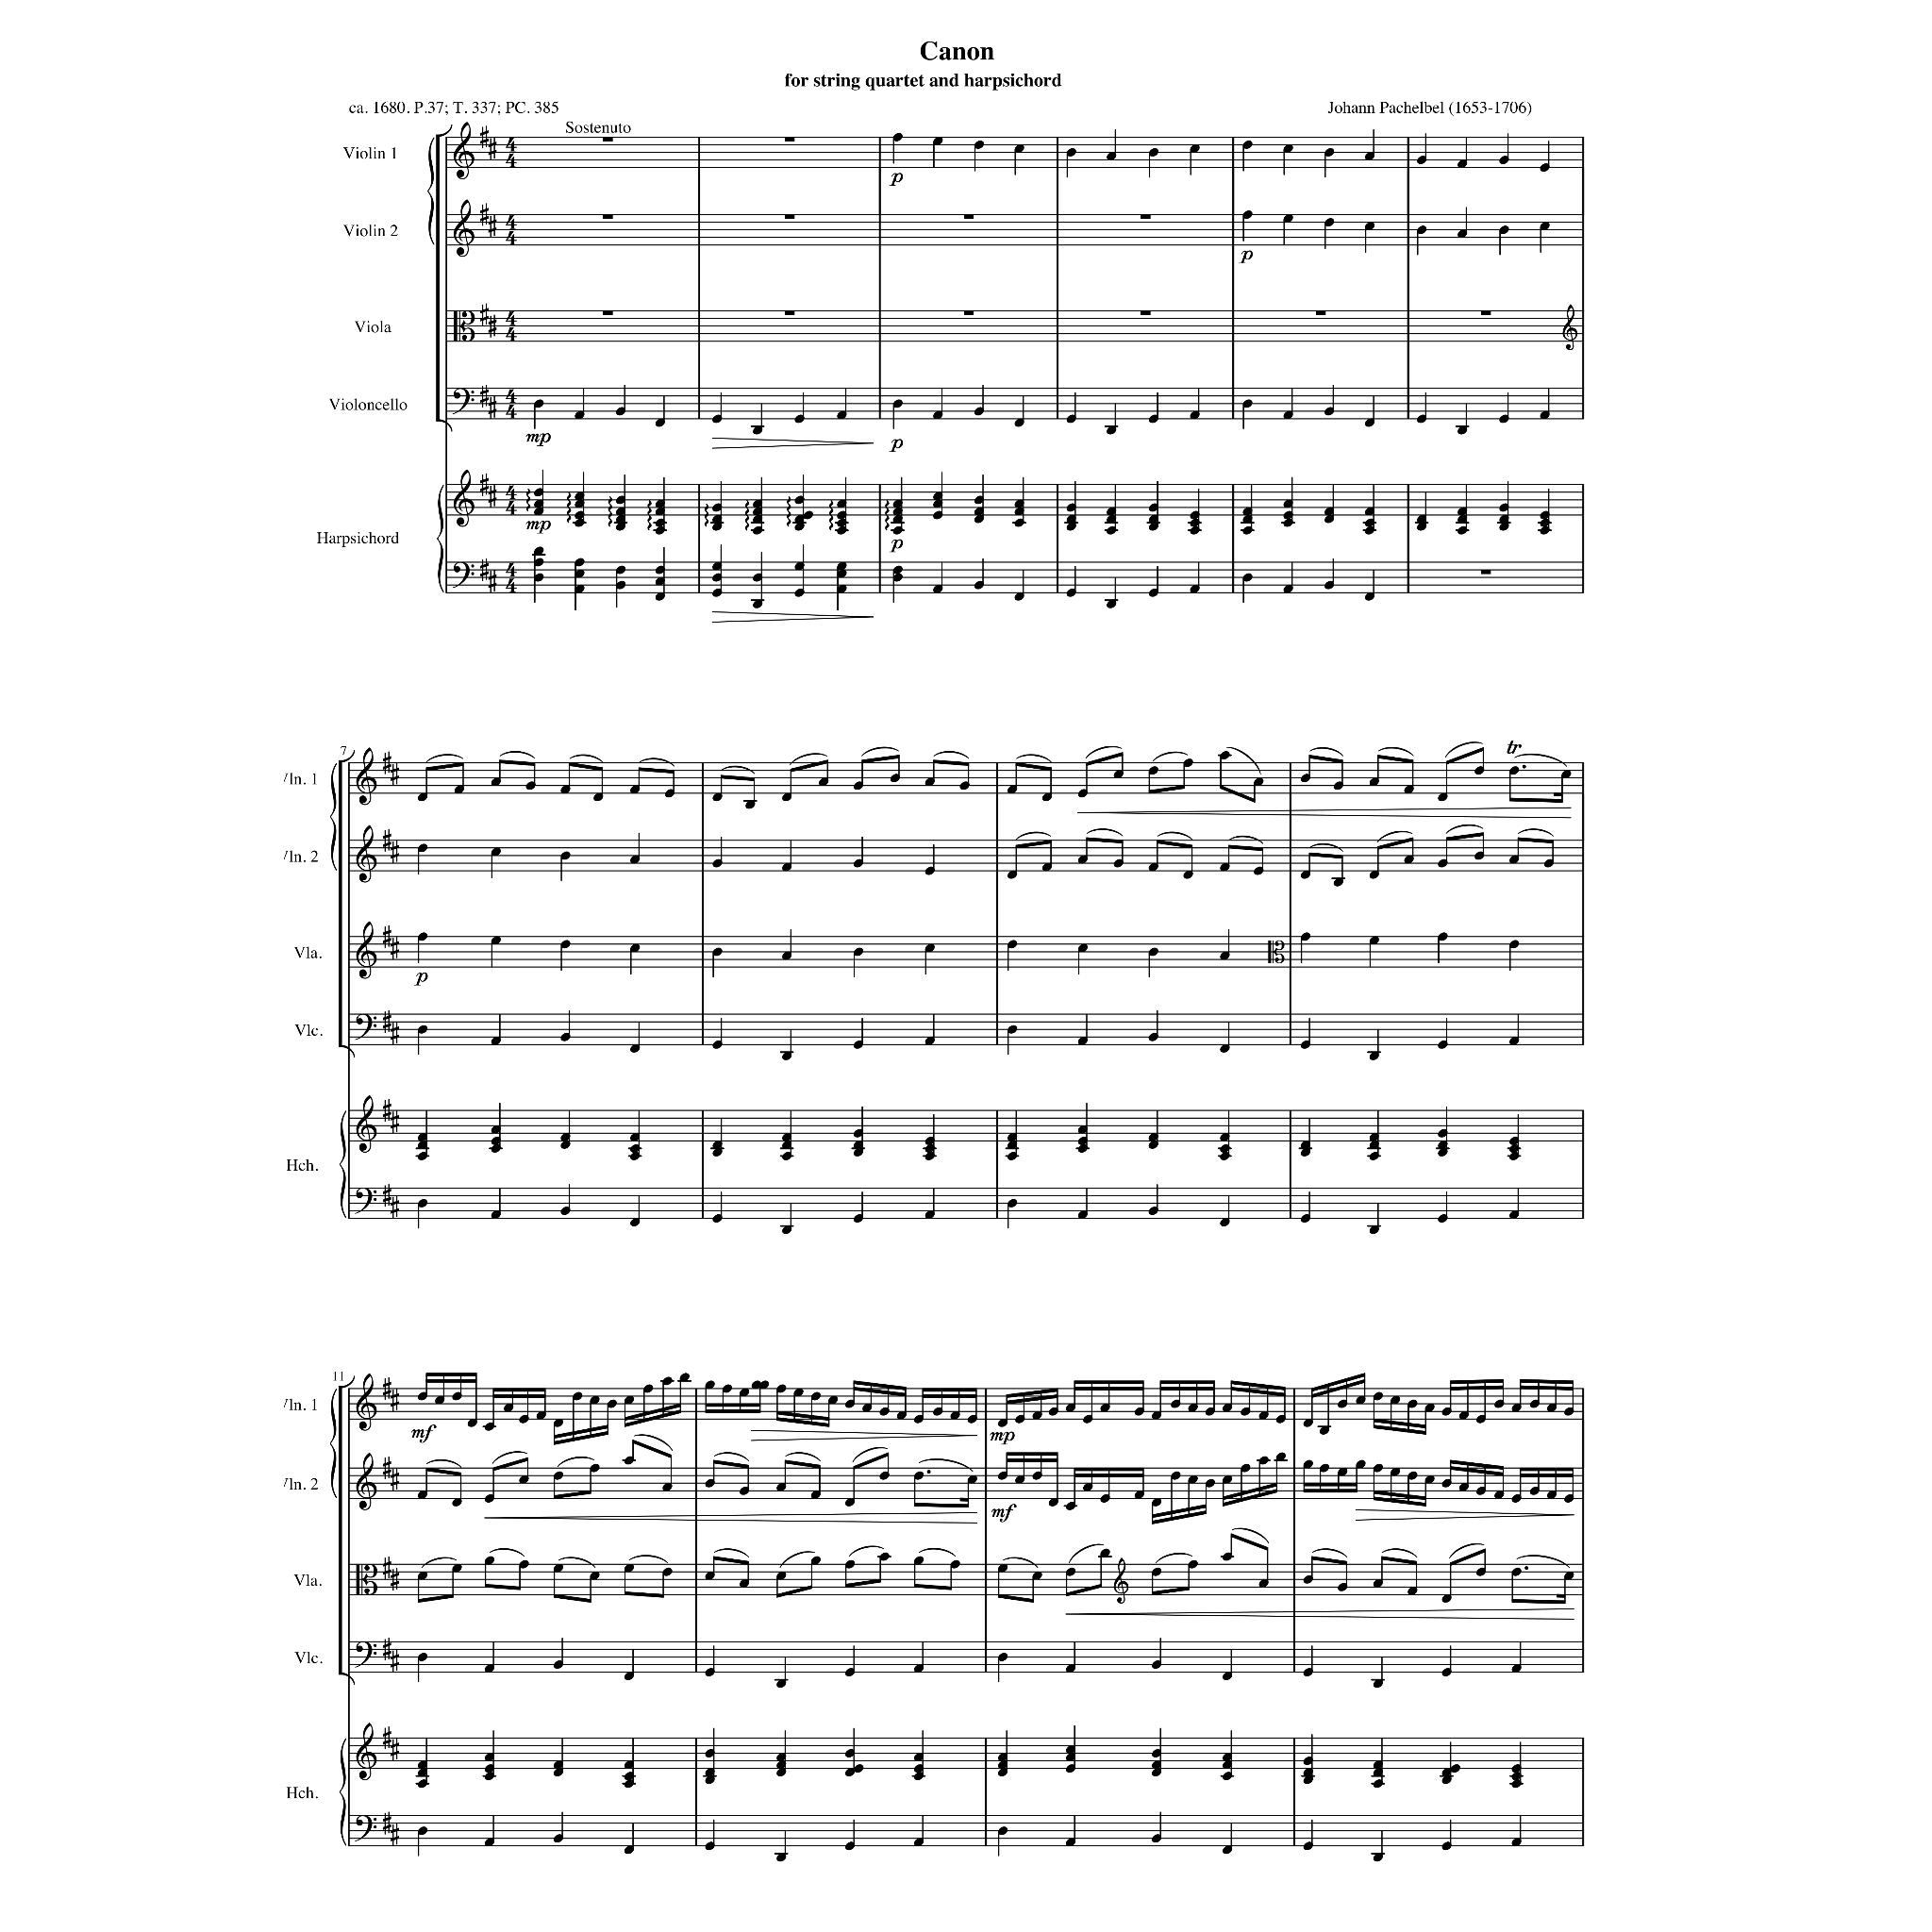brace: (338, 1737, 347, 1847), (435, 485, 444, 593), (338, 1111, 347, 1219), (329, 1389, 336, 1499), (426, 138, 433, 246), (329, 763, 336, 870)
fClef: (451, 389, 474, 416), (451, 563, 474, 589), (354, 1014, 377, 1040), (354, 1187, 377, 1214), (354, 1815, 377, 1842), (354, 1642, 377, 1668)
gClef: (453, 122, 474, 180), (453, 200, 474, 258), (453, 469, 474, 527), (356, 824, 377, 883), (356, 1095, 377, 1154), (356, 920, 377, 978), (356, 747, 377, 805), (356, 1723, 377, 1782), (356, 1453, 377, 1511), (356, 1373, 377, 1431)
noteheadBlack: (1242, 140, 1253, 150), (1300, 773, 1311, 784), (1042, 862, 1053, 872), (1077, 1035, 1088, 1046), (1219, 862, 1230, 872), (1148, 862, 1159, 872), (1509, 1035, 1520, 1046), (490, 1035, 501, 1046), (924, 1035, 934, 1046), (1223, 1474, 1233, 1484), (1065, 1744, 1076, 1755), (1187, 1474, 1198, 1484), (1424, 1474, 1435, 1484), (518, 1474, 529, 1484), (968, 1474, 978, 1484), (1014, 1474, 1024, 1484), (1323, 218, 1334, 226), (1323, 407, 1334, 416), (1323, 515, 1334, 524), (1323, 580, 1334, 589), (1283, 518, 1293, 527), (1283, 511, 1293, 520), (1283, 499, 1293, 508), (1283, 584, 1293, 593), (1283, 410, 1293, 419), (1323, 149, 1334, 157), (1242, 515, 1253, 524), (1283, 145, 1293, 154), (1283, 214, 1293, 223), (1148, 149, 1159, 157), (1148, 414, 1159, 423), (1148, 522, 1159, 531), (1148, 515, 1159, 524), (1148, 502, 1159, 511), (1148, 589, 1159, 598), (1106, 152, 1116, 161), (1106, 426, 1116, 435), (1106, 525, 1116, 534), (1106, 515, 1116, 524), (1106, 600, 1116, 609), (1242, 211, 1253, 219), (1242, 400, 1253, 409), (1242, 525, 1253, 534), (1242, 573, 1253, 582), (1189, 525, 1200, 534), (1189, 145, 1200, 154), (1189, 410, 1200, 419), (1189, 518, 1200, 527), (1189, 511, 1200, 520), (1189, 584, 1200, 593), (1539, 410, 1550, 419), (1539, 525, 1550, 534), (1539, 518, 1550, 527), (1539, 511, 1550, 520), (1499, 502, 1509, 511), (1499, 156, 1509, 165), (1499, 226, 1509, 235), (1499, 414, 1509, 423), (1499, 522, 1509, 531), (1499, 515, 1509, 524), (711, 414, 722, 423), (711, 522, 722, 531), (711, 515, 722, 524), (711, 502, 722, 511), (711, 589, 722, 598), (711, 573, 722, 582), (614, 515, 625, 524), (614, 495, 625, 504), (614, 580, 625, 589), (655, 418, 665, 426), (655, 525, 665, 534), (655, 518, 665, 527), (655, 499, 665, 508), (655, 577, 665, 586), (752, 600, 763, 609), (752, 426, 763, 435), (752, 525, 763, 534), (752, 515, 763, 524), (752, 499, 763, 508), (752, 573, 763, 582), (614, 522, 625, 531), (614, 407, 625, 416), (975, 140, 984, 150), (932, 410, 943, 419), (932, 511, 943, 520), (932, 499, 943, 508), (932, 492, 943, 501), (932, 584, 943, 593), (1014, 499, 1024, 508), (1065, 515, 1076, 524), (1014, 518, 1024, 527), (1065, 522, 1076, 531), (1065, 149, 1076, 157), (1065, 414, 1076, 423), (1065, 589, 1076, 598), (1065, 502, 1076, 511), (1014, 145, 1024, 154), (1014, 418, 1024, 426), (837, 410, 847, 419), (837, 525, 847, 534), (837, 518, 847, 527), (837, 511, 847, 520), (837, 499, 847, 508), (837, 584, 847, 593), (837, 570, 847, 579), (794, 414, 805, 423), (794, 522, 805, 531), (794, 515, 805, 524), (801, 511, 812, 520), (794, 495, 805, 504), (794, 589, 805, 598), (892, 133, 902, 142), (892, 400, 902, 409), (892, 525, 902, 534), (892, 515, 902, 524), (892, 499, 902, 508), (892, 573, 902, 582), (1253, 867, 1263, 876), (1300, 870, 1311, 879), (1300, 932, 1311, 941), (1300, 1040, 1311, 1049), (1300, 1148, 1311, 1157), (1300, 1139, 1311, 1148), (1300, 1214, 1311, 1223), (1219, 1044, 1230, 1053), (1113, 770, 1123, 778), (1113, 858, 1123, 867), (1077, 789, 1088, 798), (1077, 855, 1088, 863), (1077, 943, 1088, 952), (1077, 1145, 1088, 1154), (1077, 1138, 1088, 1146), (1077, 1125, 1088, 1134), (1077, 1210, 1088, 1219), (1182, 759, 1192, 768), (1182, 870, 1192, 879), (1219, 952, 1230, 961), (1219, 1152, 1230, 1161), (1219, 1145, 1230, 1154), (1042, 793, 1053, 801), (1148, 766, 1159, 775), (1148, 1139, 1159, 1148), (1148, 1132, 1159, 1141), (1148, 1207, 1159, 1215), (1219, 1132, 1230, 1141), (1560, 770, 1571, 778), (1509, 1210, 1520, 1219), (1509, 1138, 1520, 1146), (1403, 786, 1414, 794), (1403, 855, 1414, 863), (1334, 782, 1345, 791), (1334, 878, 1345, 886), (1369, 870, 1380, 879), (1369, 936, 1380, 945), (1369, 1053, 1380, 1062), (1369, 1152, 1380, 1161), (1369, 1139, 1380, 1148), (1369, 1132, 1380, 1141), (1369, 1226, 1380, 1235), (1474, 766, 1484, 775), (1474, 851, 1484, 860), (1509, 766, 1520, 775), (1509, 855, 1520, 863), (1509, 939, 1520, 948), (1509, 1152, 1520, 1161), (1509, 1145, 1520, 1154), (1437, 793, 1447, 801), (1437, 858, 1447, 867), (1437, 932, 1447, 941), (1437, 1040, 1447, 1049), (1437, 1148, 1447, 1157), (1437, 1139, 1447, 1148), (1437, 1129, 1447, 1138), (1437, 1214, 1447, 1223), (593, 793, 603, 801), (525, 782, 536, 791), (630, 786, 640, 794), (559, 786, 570, 794), (559, 851, 570, 860), (559, 939, 570, 948), (559, 1139, 570, 1148), (559, 1132, 570, 1141), (559, 1207, 570, 1215), (711, 1139, 722, 1148), (663, 789, 674, 798), (711, 793, 722, 801), (711, 858, 722, 867), (711, 1040, 722, 1049), (711, 1148, 722, 1157), (711, 1214, 722, 1223), (630, 855, 640, 863), (630, 943, 640, 952), (630, 1044, 640, 1053), (630, 1152, 640, 1161), (630, 1145, 640, 1154), (630, 1132, 640, 1141), (416, 793, 426, 801), (416, 844, 426, 853), (416, 932, 426, 941), (490, 1138, 501, 1146), (453, 786, 464, 794), (490, 847, 501, 856), (490, 936, 501, 945), (490, 1145, 501, 1154), (490, 1125, 501, 1134), (490, 1210, 501, 1219), (416, 1024, 426, 1033), (416, 1152, 426, 1161), (416, 1139, 426, 1148), (416, 1132, 426, 1141), (416, 1200, 426, 1208), (924, 1152, 934, 1161), (924, 1145, 934, 1154), (924, 1138, 934, 1146), (924, 1210, 934, 1219), (890, 773, 899, 784), (924, 867, 934, 876), (924, 943, 934, 952), (959, 782, 970, 791), (1007, 786, 1017, 794), (1007, 870, 1017, 879), (1007, 939, 1017, 948), (1007, 1024, 1017, 1033), (1007, 1152, 1017, 1161), (1007, 1139, 1017, 1148), (1007, 1132, 1017, 1141), (1007, 1200, 1017, 1208), (745, 800, 755, 809), (782, 862, 791, 872), (853, 782, 863, 791), (853, 858, 863, 867), (853, 1040, 863, 1049), (853, 1148, 863, 1157), (853, 1139, 863, 1148), (853, 1129, 863, 1138), (853, 1214, 863, 1223), (1258, 1578, 1269, 1587), (1258, 1456, 1269, 1465), (1258, 1410, 1269, 1419), (1276, 1453, 1286, 1461), (1240, 1463, 1251, 1472), (1223, 1753, 1233, 1762), (1223, 1845, 1233, 1854), (1223, 1760, 1233, 1769), (1223, 1672, 1233, 1681), (1223, 1552, 1233, 1560), (1223, 1403, 1233, 1412), (1240, 1407, 1251, 1415), (1338, 1399, 1348, 1408), (1338, 1467, 1348, 1476), (1338, 1583, 1348, 1592), (1320, 1463, 1330, 1472), (1320, 1426, 1330, 1435), (1083, 1483, 1093, 1491), (1134, 1407, 1145, 1415), (1099, 1548, 1109, 1557), (1099, 1493, 1109, 1502), (1099, 1403, 1109, 1412), (1047, 1499, 1058, 1507), (1047, 1407, 1058, 1415), (1134, 1490, 1145, 1499), (1065, 1838, 1076, 1847), (1065, 1753, 1076, 1762), (1065, 1764, 1076, 1773), (1065, 1665, 1076, 1674), (1065, 1568, 1076, 1576), (1065, 1502, 1076, 1511), (1065, 1403, 1076, 1412), (1187, 1403, 1198, 1412), (1169, 1399, 1180, 1408), (1205, 1479, 1215, 1488), (1205, 1407, 1215, 1415), (1152, 1767, 1162, 1776), (1152, 1661, 1162, 1670), (1152, 1568, 1162, 1576), (1152, 1499, 1162, 1507), (1152, 1410, 1162, 1419), (1152, 1760, 1162, 1769), (1152, 1835, 1162, 1844), (1152, 1750, 1162, 1759), (1546, 1490, 1557, 1499), (1511, 1838, 1522, 1847), (1511, 1764, 1522, 1773), (1546, 1403, 1557, 1412), (1391, 1467, 1401, 1476), (1391, 1396, 1401, 1405), (1424, 1403, 1435, 1412), (1407, 1399, 1417, 1408), (1355, 1460, 1366, 1468), (1373, 1392, 1384, 1401), (1373, 1463, 1384, 1472), (1355, 1396, 1366, 1405), (1373, 1852, 1384, 1861), (1373, 1760, 1384, 1769), (1373, 1767, 1384, 1776), (1373, 1780, 1384, 1789), (1373, 1679, 1384, 1688), (1373, 1578, 1384, 1587), (1476, 1568, 1486, 1576), (1511, 1780, 1522, 1789), (1511, 1665, 1522, 1674), (1511, 1568, 1522, 1576), (1511, 1493, 1522, 1502), (1511, 1403, 1522, 1412), (1493, 1490, 1504, 1499), (1493, 1399, 1504, 1408), (1442, 1668, 1453, 1677), (1442, 1842, 1453, 1851), (1451, 1764, 1461, 1773), (1442, 1767, 1453, 1776), (1442, 1776, 1453, 1785), (1442, 1594, 1453, 1603), (1442, 1479, 1453, 1488), (1442, 1407, 1453, 1415), (589, 1571, 600, 1580), (589, 1463, 600, 1472), (589, 1396, 600, 1405), (623, 1845, 633, 1854), (623, 1760, 633, 1769), (623, 1780, 633, 1789), (623, 1672, 633, 1681), (623, 1564, 633, 1573), (623, 1456, 633, 1465), (623, 1396, 633, 1405), (552, 1767, 563, 1776), (552, 1835, 563, 1844), (552, 1760, 563, 1769), (552, 1661, 563, 1670), (552, 1564, 563, 1573), (571, 1392, 582, 1401), (704, 1842, 715, 1851), (704, 1750, 715, 1759), (704, 1767, 715, 1776), (704, 1776, 715, 1785), (704, 1668, 715, 1677), (704, 1571, 715, 1580), (704, 1479, 715, 1488), (704, 1380, 715, 1389), (662, 1483, 672, 1491), (662, 1376, 672, 1385), (642, 1384, 653, 1392), (662, 1568, 672, 1576), (679, 1373, 690, 1382), (416, 1392, 426, 1401), (416, 1760, 426, 1769), (416, 1767, 426, 1776), (416, 1780, 426, 1789), (416, 1652, 426, 1661), (416, 1571, 426, 1580), (416, 1490, 426, 1499), (502, 1403, 513, 1412), (451, 1564, 462, 1573), (451, 1499, 462, 1507), (451, 1392, 462, 1401), (433, 1396, 444, 1405), (483, 1838, 494, 1847), (483, 1753, 494, 1762), (483, 1764, 494, 1773), (483, 1665, 494, 1674), (483, 1493, 494, 1502), (483, 1422, 494, 1431), (950, 1410, 961, 1419), (932, 1407, 943, 1415), (879, 1552, 890, 1560), (879, 1407, 890, 1415), (862, 1403, 872, 1412), (913, 1838, 924, 1847), (913, 1753, 924, 1762), (913, 1764, 924, 1773), (913, 1665, 924, 1674), (895, 1410, 906, 1419), (1031, 1571, 1042, 1580), (1031, 1410, 1042, 1419), (998, 1753, 1008, 1762), (998, 1760, 1008, 1769), (998, 1767, 1008, 1776), (998, 1652, 1008, 1661), (998, 1564, 1008, 1573), (810, 1392, 821, 1401), (810, 1490, 821, 1499), (740, 1578, 750, 1587), (750, 1380, 761, 1389), (759, 1380, 770, 1389), (844, 1842, 855, 1851), (844, 1750, 855, 1759), (828, 1396, 839, 1405), (853, 1764, 863, 1773), (844, 1767, 855, 1776), (844, 1668, 855, 1677), (844, 1499, 855, 1507), (844, 1399, 855, 1408), (1417, 156, 1426, 165), (1417, 226, 1426, 235), (1417, 414, 1426, 423), (1417, 522, 1426, 531), (1417, 515, 1426, 524), (1366, 152, 1375, 161), (1366, 418, 1375, 426), (1366, 525, 1375, 534), (1366, 518, 1375, 527), (1458, 230, 1467, 239), (1458, 159, 1467, 168), (1458, 426, 1467, 435), (1458, 525, 1467, 534), (1458, 515, 1467, 524), (534, 400, 543, 409), (534, 499, 543, 508), (534, 488, 543, 497), (534, 573, 543, 582), (534, 557, 543, 566), (534, 547, 543, 556), (575, 410, 584, 419), (575, 518, 584, 527), (575, 511, 584, 520), (575, 499, 584, 508), (575, 492, 584, 501), (575, 584, 584, 593), (575, 570, 584, 579), (575, 557, 584, 566), (975, 407, 984, 416), (975, 515, 984, 524), (975, 495, 984, 504), (975, 580, 984, 589), (1545, 858, 1553, 867), (782, 793, 791, 801), (782, 952, 791, 961), (782, 1053, 791, 1062), (782, 1152, 791, 1161), (782, 1139, 791, 1148), (782, 1132, 791, 1141), (782, 1226, 791, 1235), (1304, 1757, 1313, 1766), (1304, 1842, 1313, 1851), (1304, 1767, 1313, 1776), (1304, 1776, 1313, 1785), (1304, 1668, 1313, 1677), (1304, 1575, 1313, 1583), (1304, 1460, 1313, 1468), (1564, 1407, 1573, 1415), (1564, 1571, 1573, 1580), (1564, 1493, 1573, 1502), (1530, 1399, 1539, 1408), (1460, 1483, 1468, 1491), (1460, 1410, 1468, 1419), (607, 1399, 616, 1408), (536, 1410, 545, 1419), (777, 1571, 786, 1580), (777, 1852, 786, 1861), (777, 1753, 786, 1762), (777, 1760, 786, 1769), (777, 1767, 786, 1776), (777, 1679, 786, 1688), (777, 1483, 786, 1491), (777, 1384, 786, 1392), (722, 1384, 731, 1392), (1323, 508, 1334, 515), (1106, 508, 1116, 515), (1242, 508, 1253, 515), (1539, 165, 1550, 172), (1539, 223, 1550, 230), (655, 566, 665, 573), (711, 563, 722, 570), (614, 508, 625, 515), (614, 566, 625, 573), (655, 508, 665, 515), (655, 593, 665, 600), (752, 508, 763, 515), (932, 138, 943, 145), (1014, 508, 1024, 515), (1014, 593, 1024, 600), (837, 563, 847, 570), (794, 563, 805, 570), (892, 508, 902, 515), (892, 566, 902, 573), (1219, 1219, 1230, 1226), (1253, 778, 1263, 786), (1219, 752, 1230, 759), (1148, 948, 1159, 955), (1148, 1033, 1159, 1040), (1369, 778, 1380, 786), (559, 1033, 570, 1040), (711, 948, 722, 955), (630, 1219, 640, 1226), (490, 778, 501, 786), (924, 778, 934, 786), (853, 948, 863, 955), (1276, 1415, 1286, 1422), (1223, 1773, 1233, 1780), (1083, 1415, 1093, 1422), (1187, 1560, 1198, 1568), (1169, 1472, 1180, 1479), (1511, 1773, 1522, 1780), (1407, 1587, 1417, 1594), (1407, 1472, 1417, 1479), (1476, 1488, 1486, 1495), (1476, 1415, 1486, 1422), (623, 1773, 633, 1780), (552, 1472, 563, 1479), (552, 1419, 563, 1426), (416, 1828, 426, 1835), (518, 1560, 529, 1568), (518, 1415, 529, 1422), (483, 1557, 494, 1564), (483, 1773, 494, 1780), (467, 1419, 478, 1426), (968, 1415, 978, 1422), (950, 1560, 961, 1568), (879, 1472, 890, 1479), (913, 1557, 924, 1564), (913, 1773, 924, 1780), (913, 1472, 924, 1479), (913, 1415, 924, 1422), (1031, 1472, 1042, 1479), (1014, 1415, 1024, 1422), (998, 1472, 1008, 1479), (998, 1828, 1008, 1835), (998, 1419, 1008, 1426), (793, 1389, 803, 1396), (810, 1557, 821, 1564), (740, 1389, 750, 1396), (740, 1488, 750, 1495), (844, 1560, 855, 1568), (1366, 508, 1375, 515), (1366, 223, 1375, 230), (1366, 593, 1375, 600), (1458, 508, 1467, 515), (534, 508, 543, 515), (975, 508, 984, 515), (819, 778, 828, 786), (1304, 1419, 1313, 1426), (1530, 1488, 1539, 1495)
restWhole: (964, 214, 975, 219), (1139, 214, 1150, 219), (784, 214, 794, 219), (602, 214, 612, 219), (1139, 311, 1150, 315), (964, 311, 975, 315), (784, 311, 794, 315), (784, 138, 794, 142), (1481, 570, 1491, 573), (1481, 311, 1491, 315), (602, 311, 612, 315), (602, 138, 612, 142), (1316, 311, 1325, 315)
